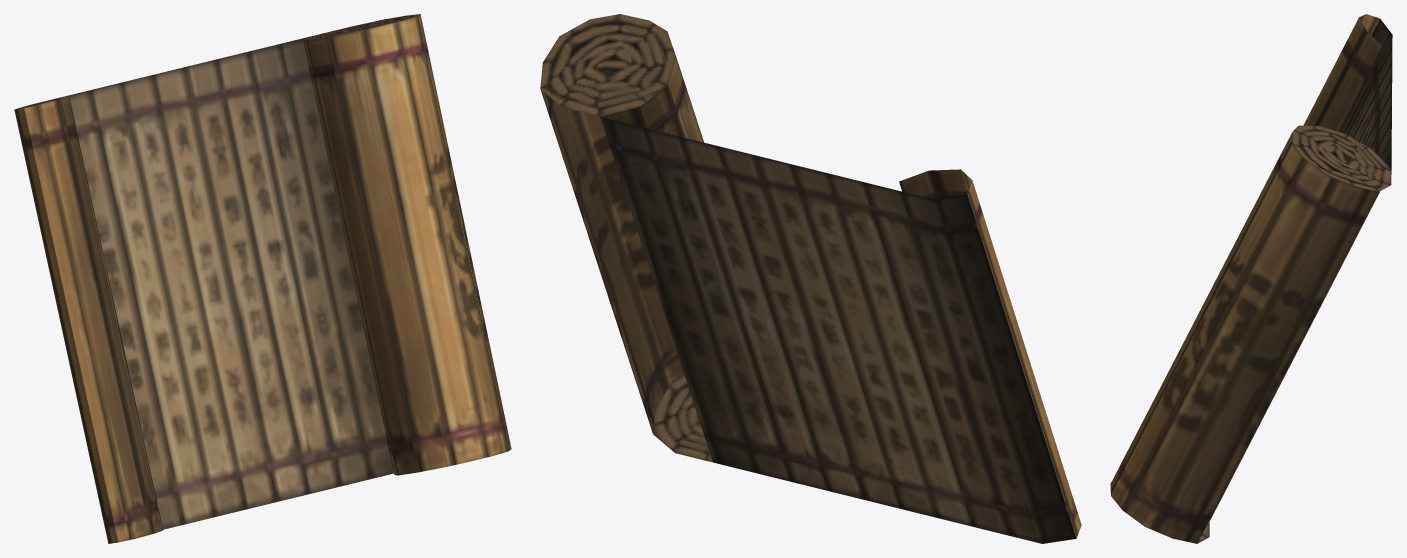
The model's file is Book.FBX.
3 renders of one model, left to right at view 1: azimuth 30°, elevation 25°; view 2: azimuth 150°, elevation 25°; view 3: azimuth 270°, elevation 25°, orthographic. The views are drawn at different scales.
Parts seen in each view (by area): view 1: Book; view 2: Book; view 3: Book.
Boxes of the visible parts, bbox=[...] form: Book: bbox=[14, 14, 511, 543]; Book: bbox=[540, 14, 1081, 543]; Book: bbox=[1110, 14, 1392, 543].
Bounding box in the file's own units: 145 × 149 × 96.44.
